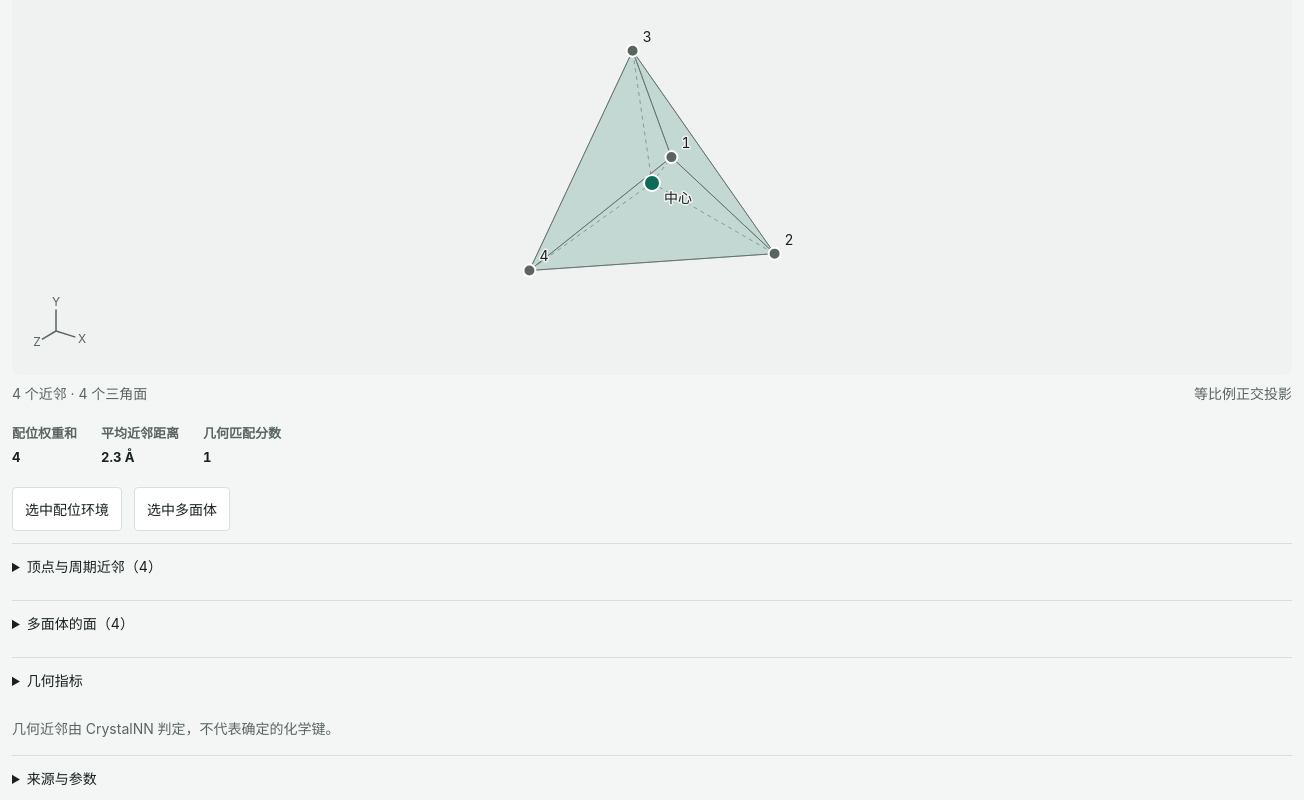
LocalEnvironmentPolyhedraPanel › shows the saved scientific number without stripping zeros from its exponent
(page scrolled)
Click the heading "几何指标" at {"x": 55, "y": 680}, box [27,672,83,689]
(page scrolled)
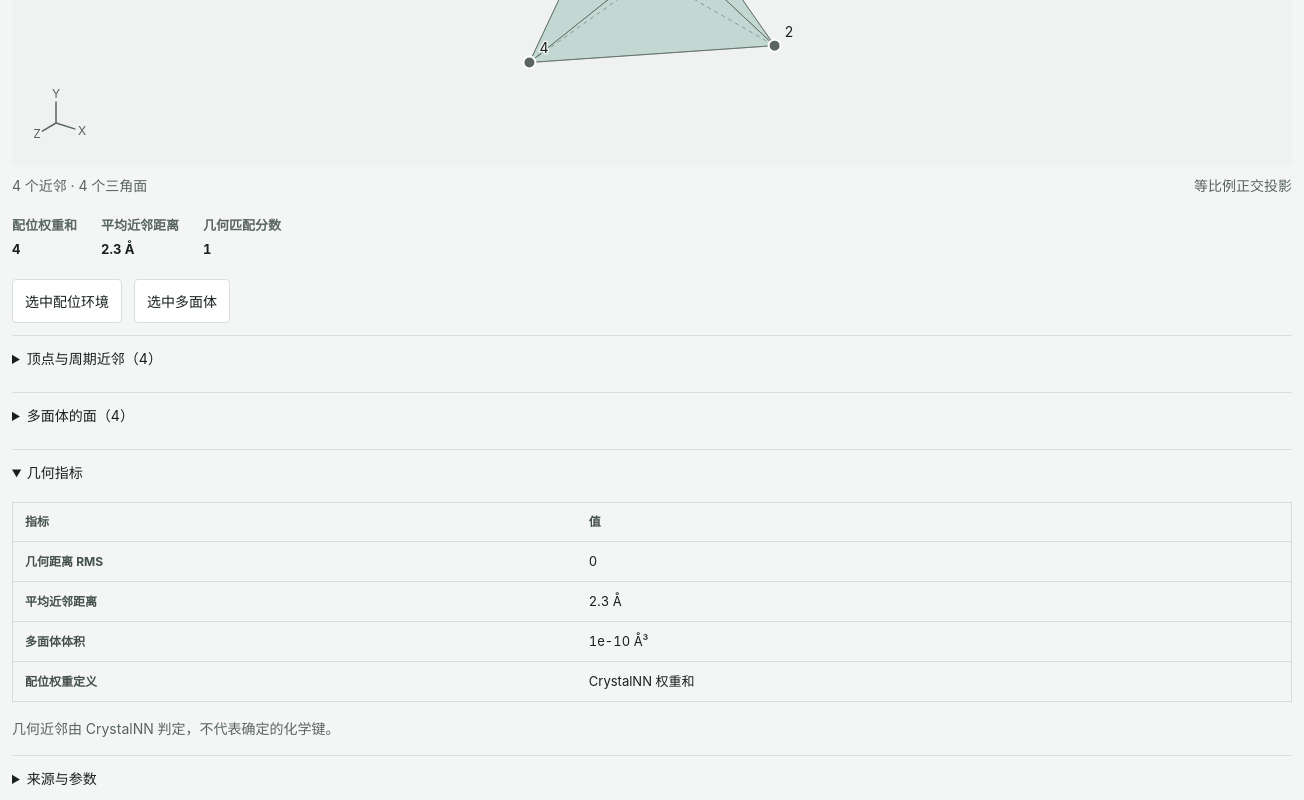
Check: the text "1e-10 Å³" is shown, box [577,622,1292,662]
